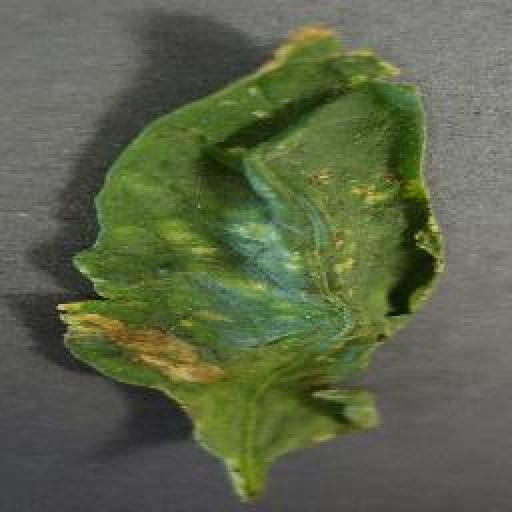Bacterial Spot: (50, 19, 454, 506)
